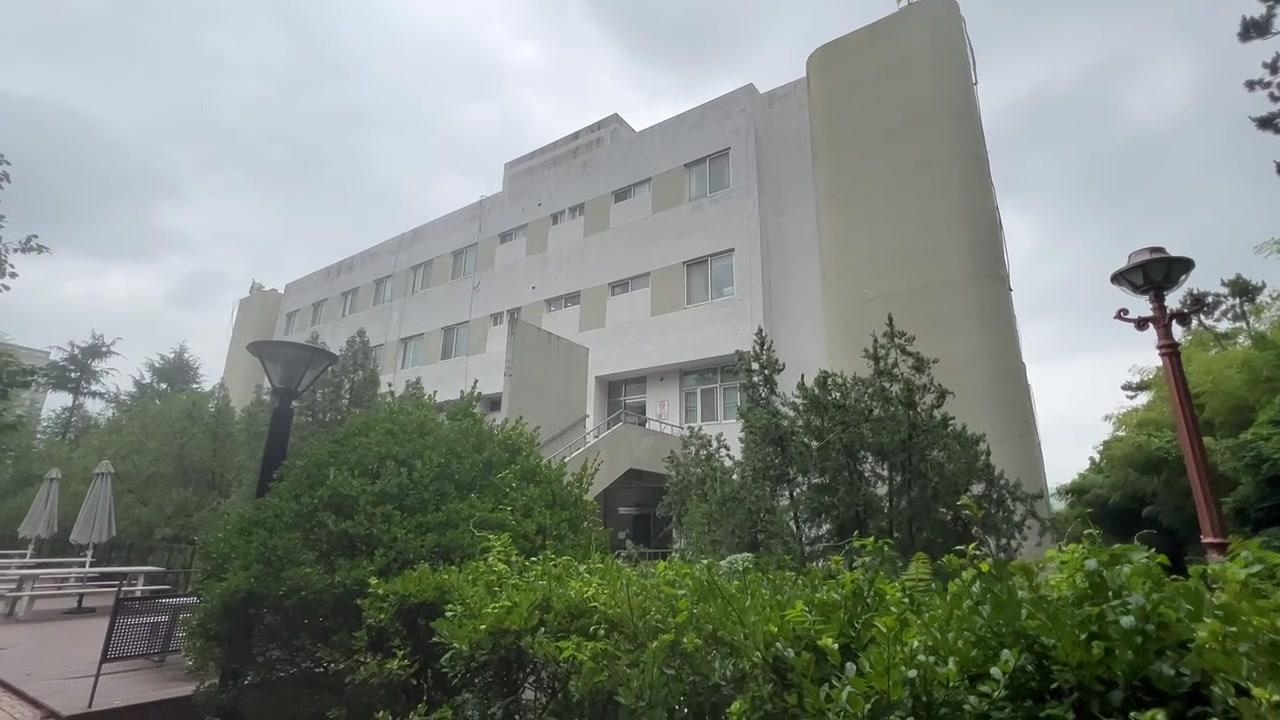building: (276, 30, 1008, 361)
